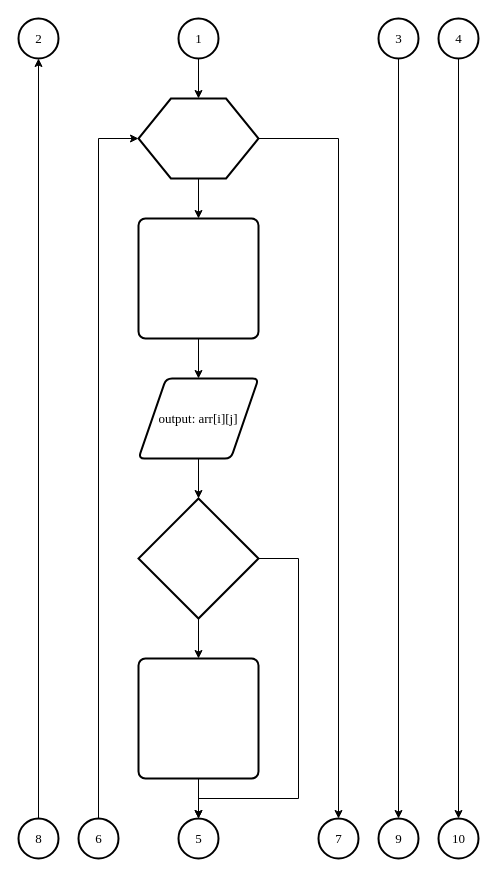
This 496x876 diagram has some shape labels left out. Each missing label, with the centre of its shape:
arr [ i ][ j ] = rand() % 10 sum += array [ i ][ j ]: the point at 198,278
arr [ i ][ j ] > max: the point at 198,558
j = 0 ; j < n ; j ++: the point at 198,138
max = arr [ i ][ j ]: the point at 198,718
